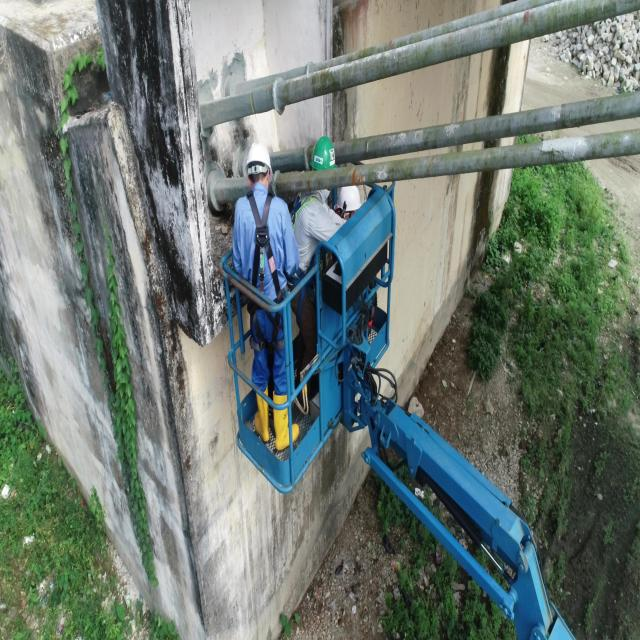corrosion: (522, 10, 534, 23), (352, 168, 356, 186), (358, 172, 363, 184), (388, 40, 393, 50), (306, 180, 311, 190), (499, 17, 504, 22)
crack: (428, 155, 434, 170)
